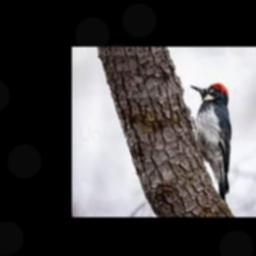Woodpecker: (190, 83, 231, 201)
